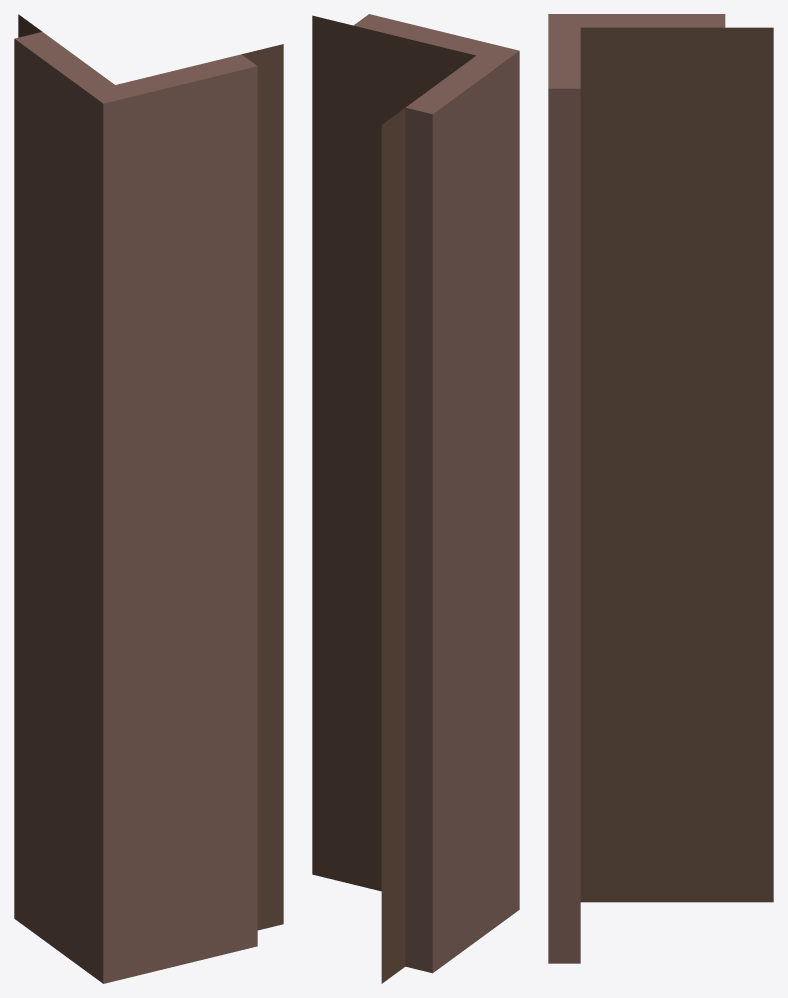
Rendered from mid-c1.fbx.
3 views of the same model, side by side, from view 1: azimuth 30°, elevation 25°; view 2: azimuth 150°, elevation 25°; view 3: azimuth 270°, elevation 25° (orthographic). The views are drawn at different scales.
Parts seen in each view (by area): view 1: a2001/800/mid-c1; view 2: a2001/800/mid-c1; view 3: a2001/800/mid-c1.
Boxes of the visible parts, x1,y1,x2,y2 form: a2001/800/mid-c1: (14,14,283,983); a2001/800/mid-c1: (312,14,519,983); a2001/800/mid-c1: (548,14,773,963).
Bounding box in the file's own units: 0.7 × 3 × 0.7.
